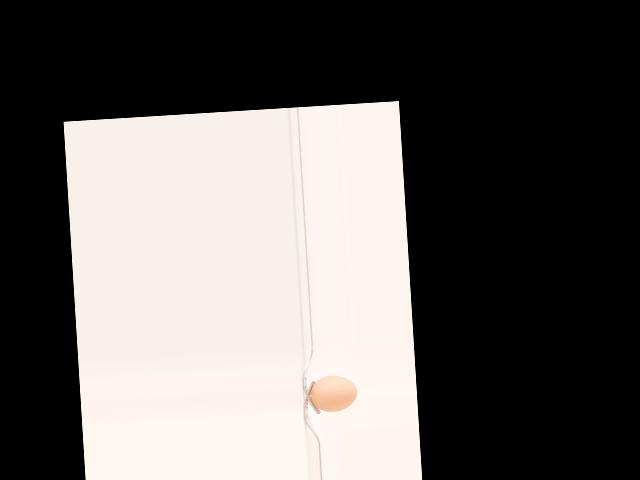egg: (309, 373, 357, 412)
